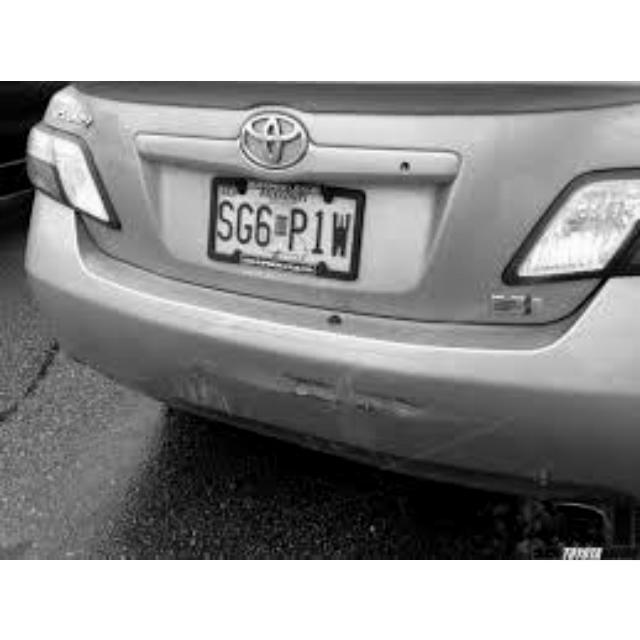rear-bumper-dent: (124, 281, 576, 434)
